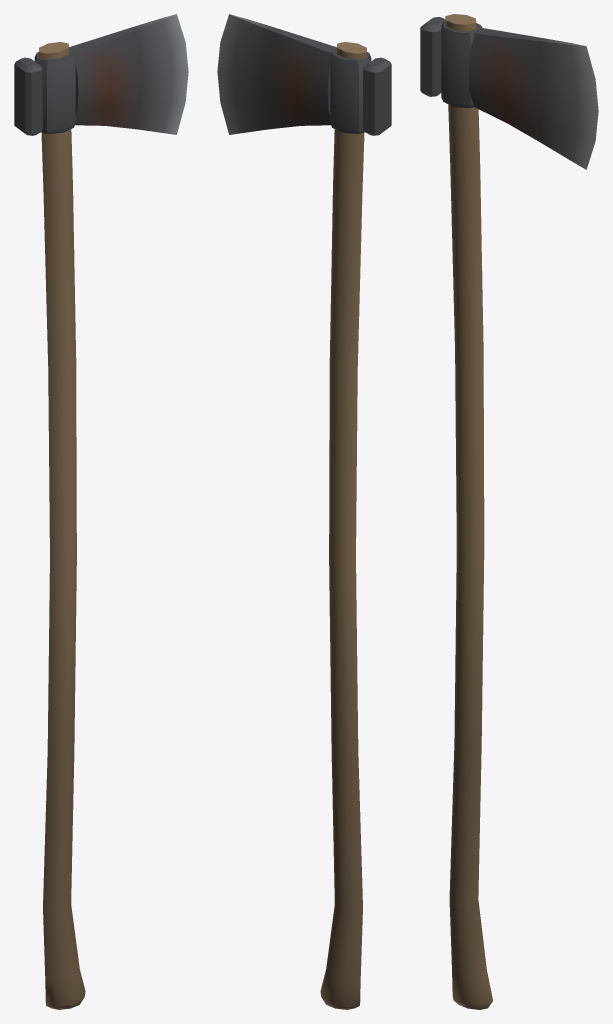
The model's file is axe_woodcutter.glb.
3 renders of one model, left to right at view 1: azimuth 30°, elevation 25°; view 2: azimuth 150°, elevation 25°; view 3: azimuth 330°, elevation 25°, orthographic. The views are drawn at different scales.
Visible parts, largest first — view 1: axe_woodcutter; view 2: axe_woodcutter; view 3: axe_woodcutter.
Part boxes in pixels (x1=…): axe_woodcutter: x1=14, y1=14, x2=188, y2=1009; axe_woodcutter: x1=217, y1=14, x2=391, y2=1009; axe_woodcutter: x1=420, y1=14, x2=598, y2=1009.
Bounding box in the file's own units: 0.229 × 1.25 × 0.041.
